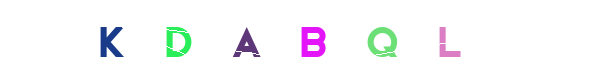A: (261, 0, 341, 80)
B: (272, 0, 352, 80)
D: (137, 0, 217, 80)
K: (130, 0, 210, 80)
L: (329, 0, 409, 80)
Q: (316, 0, 396, 80)
